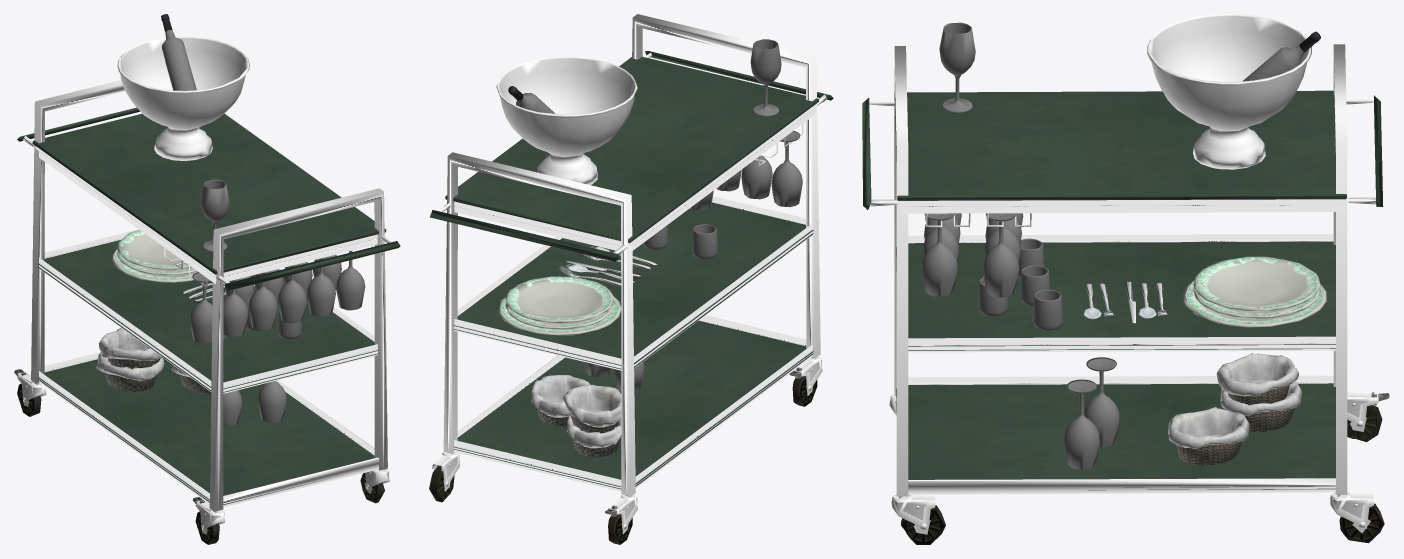
3 views of the same model, side by side, from view 1: azimuth 30°, elevation 25°; view 2: azimuth 150°, elevation 25°; view 3: azimuth 270°, elevation 25° (orthographic). The views are drawn at different scales.
Visible parts, largest first — view 1: Bistro_Research_Interior_Paris_Bar_Cart_01b_Mesh_2104 (×3), Bistro_Research_Interior_Paris_Wine_Cooler_01A3_3286, Bistro_Research_Interior_WickerBasket3_3386, Bistro_Research_Interior_WickerBasket2_3384, Bistro_Research_Interior_Trolley_paris_plate_01b34_3368, Bistro_Research_Interior_Paris_LiquorBottle_3036, Wine_Glass5, Wine_Glass10, Wine_Glass9, Wine_Glass11, Wine_Glass6, Wine_Glass8 (+4 smaller); view 2: Bistro_Research_Interior_Paris_Bar_Cart_01b_Mesh_2104 (×3), Bistro_Research_Interior_Paris_Wine_Cooler_01A3_3286, Bistro_Research_Interior_Trolley_paris_plate_01b34_3368 (×2), Bistro_Research_Interior_WickerBasket3_3386, Bistro_Research_Interior_WickerBasket1_3370, Wine_Glass5, Wine_Glass6, Bistro_Research_Interior_WickerBasket2_3384, Bistro_Research_Interior_Trolley_paris_plate_01a33_3364 (×2), Wine_Glass7, Water_Glass_11, Bistro_Research_Interior_Trolley_paris_plate_01b33_3366; view 3: Bistro_Research_Interior_Paris_Bar_Cart_01b_Mesh_2104 (×3), Bistro_Research_Interior_Paris_Wine_Cooler_01A3_3286, Bistro_Research_Interior_Trolley_paris_plate_01b34_3368 (×2), Bistro_Research_Interior_WickerBasket1_3370, Bistro_Research_Interior_WickerBasket3_3386, Wine_Glass18, Wine_Glass5, Bistro_Research_Interior_Trolley_paris_plate_01a33_3364 (×2), Wine_Glass12, Bistro_Research_Interior_WickerBasket2_3384, Wine_Glass10, Wine_Glass19 (+6 smaller).
Part boxes in pixels (<box>): Bistro_Research_Interior_Paris_Bar_Cart_01b_Mesh_2104 (×3): <box>17,80,400,544</box>; Bistro_Research_Interior_Paris_Wine_Cooler_01A3_3286: <box>117,36,249,160</box>; Bistro_Research_Interior_WickerBasket3_3386: <box>99,328,161,368</box>; Bistro_Research_Interior_WickerBasket2_3384: <box>96,352,164,391</box>; Bistro_Research_Interior_Trolley_paris_plate_01b34_3368: <box>117,230,190,269</box>; Bistro_Research_Interior_Paris_LiquorBottle_3036: <box>162,29,196,90</box>; Wine_Glass5: <box>200,179,229,251</box>; Wine_Glass10: <box>336,250,365,310</box>; Wine_Glass9: <box>248,272,277,330</box>; Wine_Glass11: <box>306,258,335,316</box>; Wine_Glass6: <box>190,272,212,343</box>; Wine_Glass8: <box>278,265,306,323</box>; Bistro_Research_Interior_Paris_Bar_Cart_01b_Mesh_2104 (×3): <box>429,14,833,544</box>; Bistro_Research_Interior_Paris_Wine_Cooler_01A3_3286: <box>496,56,637,184</box>; Bistro_Research_Interior_Trolley_paris_plate_01b34_3368 (×2): <box>505,276,613,322</box>; Bistro_Research_Interior_WickerBasket3_3386: <box>562,384,621,433</box>; Bistro_Research_Interior_WickerBasket1_3370: <box>531,375,589,426</box>; Wine_Glass5: <box>750,39,781,116</box>; Wine_Glass6: <box>771,131,802,207</box>; Bistro_Research_Interior_WickerBasket2_3384: <box>567,414,621,457</box>; Bistro_Research_Interior_Trolley_paris_plate_01a33_3364 (×2): <box>498,296,621,335</box>; Wine_Glass7: <box>741,155,772,199</box>; Water_Glass_11: <box>691,224,718,259</box>; Bistro_Research_Interior_Trolley_paris_plate_01b33_3366: <box>505,303,613,328</box>; Bistro_Research_Interior_Paris_Bar_Cart_01b_Mesh_2104 (×3): <box>862,44,1384,544</box>; Bistro_Research_Interior_Paris_Wine_Cooler_01A3_3286: <box>1147,14,1311,169</box>; Bistro_Research_Interior_Trolley_paris_plate_01b34_3368 (×2): <box>1193,256,1320,310</box>; Bistro_Research_Interior_WickerBasket1_3370: <box>1168,407,1249,465</box>; Bistro_Research_Interior_WickerBasket3_3386: <box>1216,352,1298,405</box>; Wine_Glass18: <box>1063,379,1099,469</box>; Wine_Glass5: <box>939,22,975,112</box>; Bistro_Research_Interior_Trolley_paris_plate_01a33_3364 (×2): <box>1183,280,1326,327</box>; Wine_Glass12: <box>983,213,1019,297</box>; Bistro_Research_Interior_WickerBasket2_3384: <box>1220,381,1301,432</box>; Wine_Glass10: <box>921,213,957,296</box>; Wine_Glass19: <box>1084,357,1119,447</box>.
Size of the model in its own units: 0.5901 by 1.19 by 1.18.
13 materials, 13 textured.
